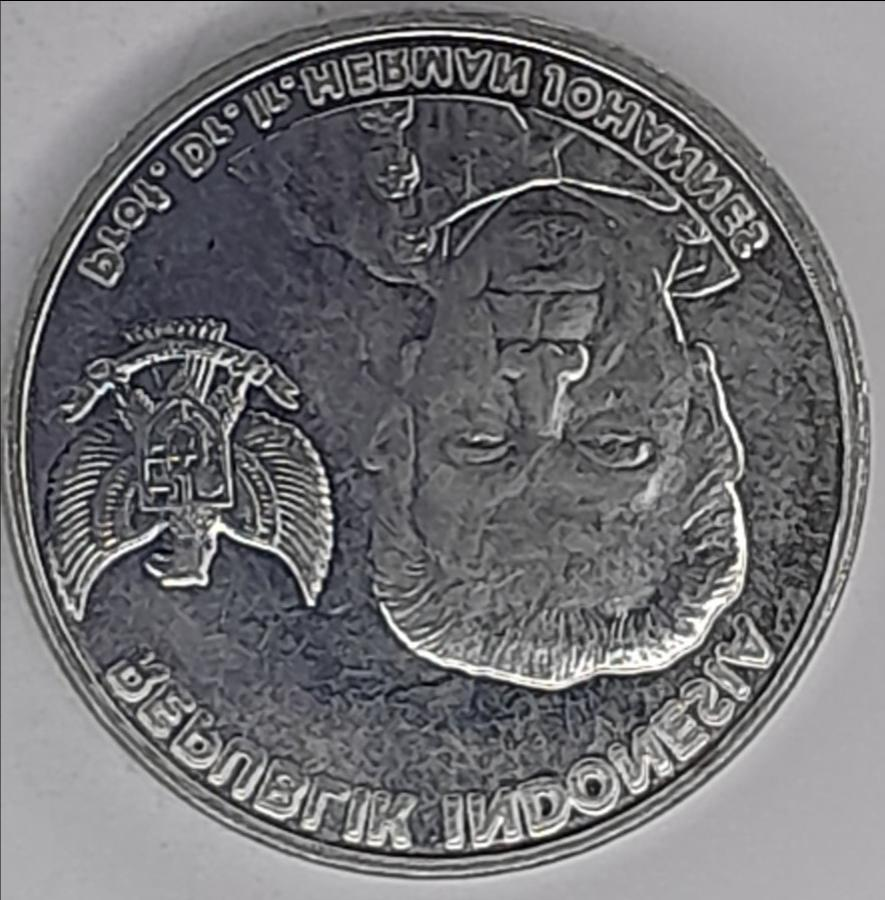coin_100_e2016: (1, 1, 878, 880)
